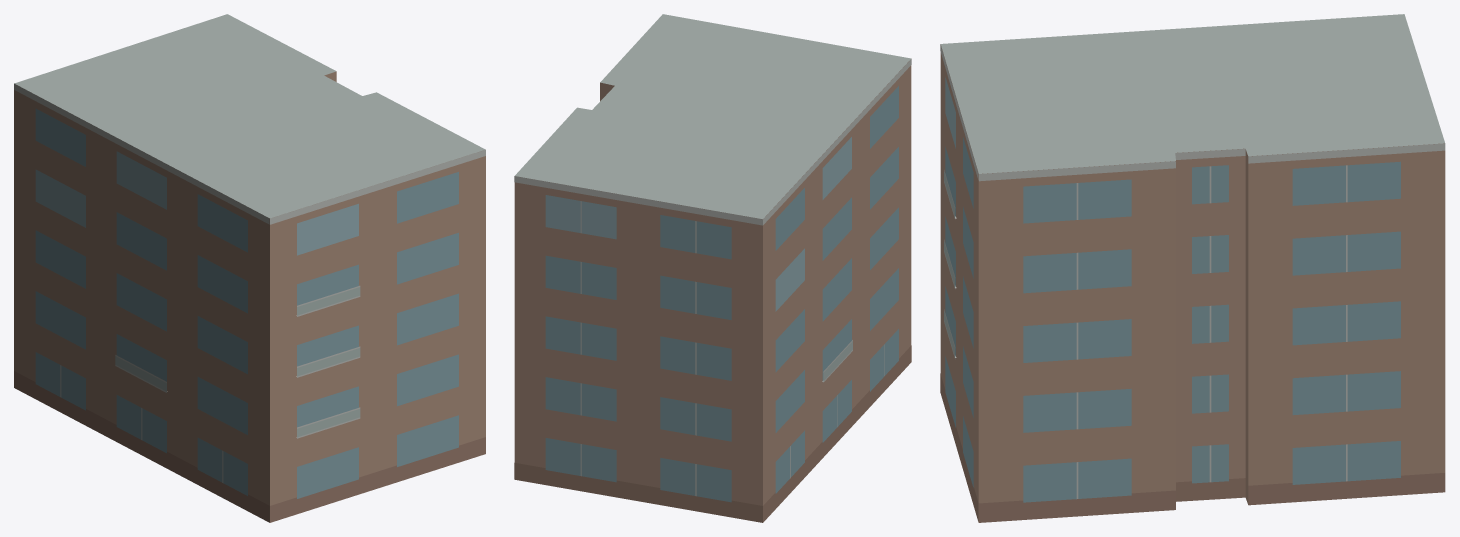
The model's file is survey-upis-32734491.glb.
3 renders of one model, left to right at view 1: azimuth 30°, elevation 25°; view 2: azimuth 150°, elevation 25°; view 3: azimuth 270°, elevation 25°, orthographic. The views are drawn at different scales.
Visible parts, largest first — view 1: survey-upis-32734491.tmp; view 2: survey-upis-32734491.tmp; view 3: survey-upis-32734491.tmp.
Boxes of the visible parts, <box> form: survey-upis-32734491.tmp: <box>14,14,485,522</box>; survey-upis-32734491.tmp: <box>514,14,911,522</box>; survey-upis-32734491.tmp: <box>940,14,1445,522</box>.
Size of the model in its own units: 11.52 by 11.7 by 15.35.
